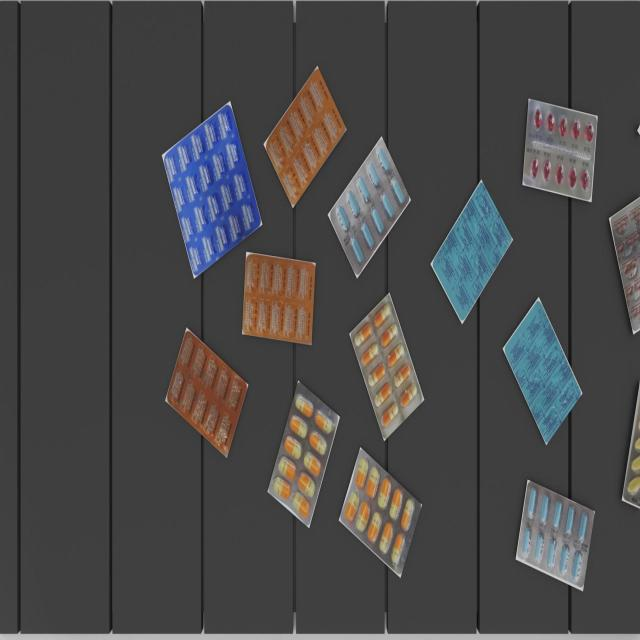blister: (163, 104, 261, 279), (260, 66, 345, 208), (430, 178, 513, 323), (327, 134, 409, 278), (265, 378, 339, 529), (348, 296, 423, 442), (505, 300, 581, 444), (340, 446, 422, 576), (167, 331, 247, 459), (517, 480, 593, 588), (522, 97, 597, 204), (241, 250, 316, 346), (607, 197, 640, 331)
